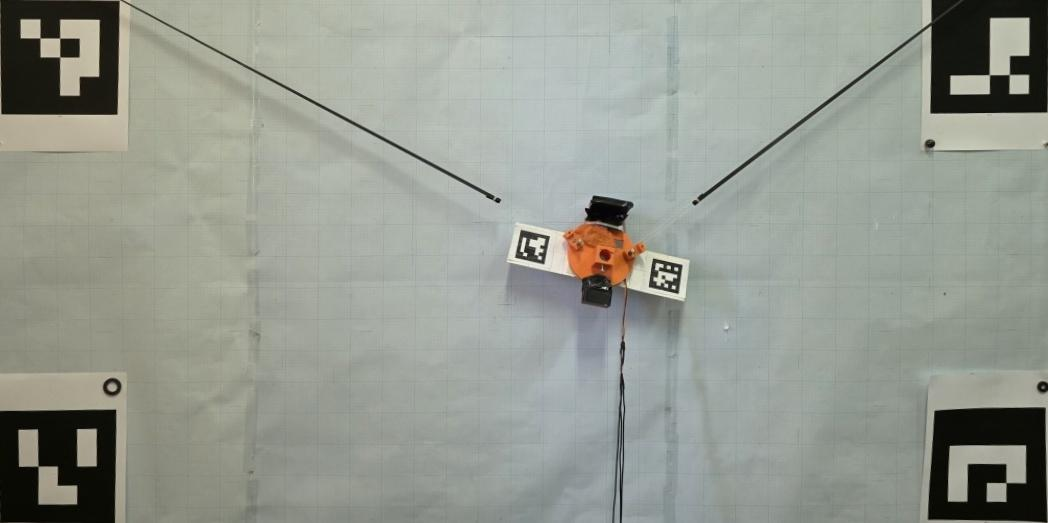robot: (561, 195, 647, 310)
